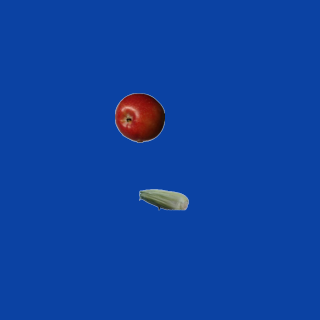Apple Braeburn: (114, 92, 164, 142)
Corn Husk: (138, 174, 188, 224)
